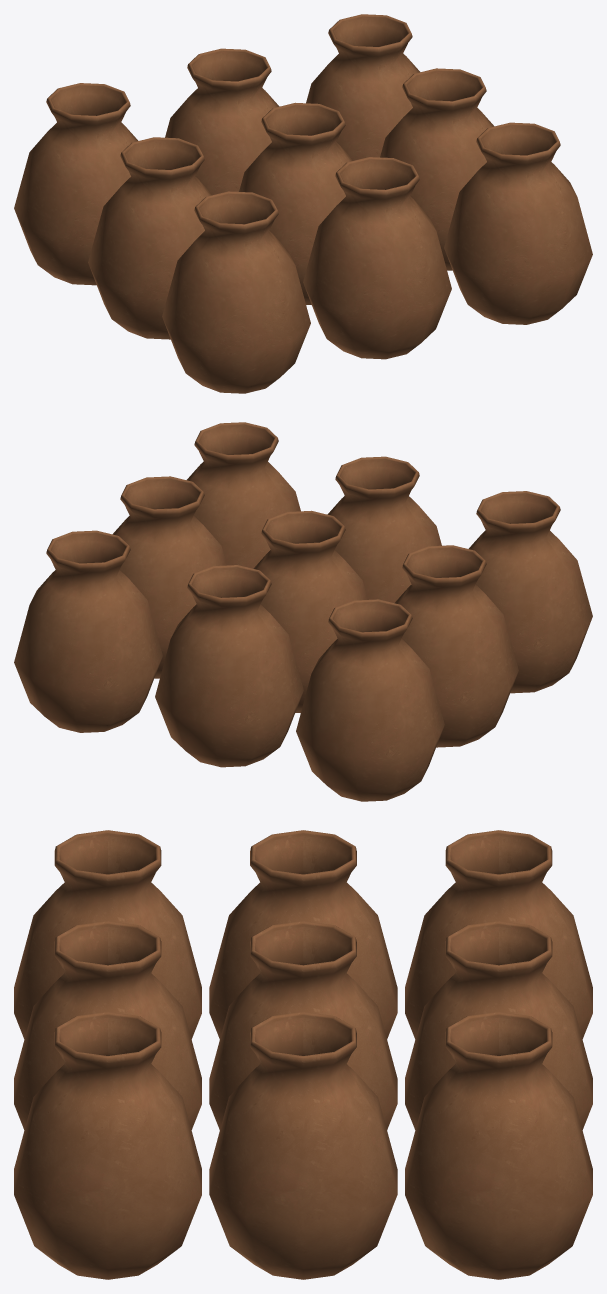
Rendered from PotteryJar2_Group.fbx.
3 renders of one model, top to bottom at view 1: azimuth 30°, elevation 25°; view 2: azimuth 150°, elevation 25°; view 3: azimuth 270°, elevation 25°, orthographic. The views are drawn at different scales.
Visible parts, largest first — view 1: PotteryJar2_8, PotteryJar2_6, PotteryJar2_7, PotteryJar2_5, PotteryJar2_, PotteryJar2_3, PotteryJar2_4, PotteryJar2_2, PotteryJar2_1; view 2: PotteryJar2_, PotteryJar2_2, PotteryJar2_1, PotteryJar2_5, PotteryJar2_8, PotteryJar2_3, PotteryJar2_4, PotteryJar2_6, PotteryJar2_7; view 3: PotteryJar2_3, PotteryJar2_6, PotteryJar2_2, PotteryJar2_4, PotteryJar2_5, PotteryJar2_8, PotteryJar2_7, PotteryJar2_1, PotteryJar2_.
Boxes of the visible parts, x1=… form: PotteryJar2_8: x1=162, y1=191, x2=310, y2=393; PotteryJar2_6: x1=444, y1=122, x2=592, y2=324; PotteryJar2_7: x1=303, y1=157, x2=451, y2=359; PotteryJar2_5: x1=88, y1=137, x2=212, y2=339; PotteryJar2_: x1=14, y1=83, x2=138, y2=285; PotteryJar2_3: x1=380, y1=68, x2=494, y2=270; PotteryJar2_4: x1=239, y1=102, x2=353, y2=304; PotteryJar2_2: x1=306, y1=14, x2=420, y2=160; PotteryJar2_1: x1=165, y1=48, x2=279, y2=194; PotteryJar2_: x1=296, y1=599, x2=444, y2=801; PotteryJar2_2: x1=14, y1=530, x2=162, y2=732; PotteryJar2_1: x1=155, y1=565, x2=303, y2=767; PotteryJar2_5: x1=394, y1=545, x2=518, y2=747; PotteryJar2_8: x1=468, y1=491, x2=592, y2=693; PotteryJar2_3: x1=112, y1=476, x2=226, y2=678; PotteryJar2_4: x1=253, y1=510, x2=367, y2=712; PotteryJar2_6: x1=186, y1=422, x2=300, y2=568; PotteryJar2_7: x1=327, y1=456, x2=441, y2=602; PotteryJar2_3: x1=209, y1=1011, x2=397, y2=1279; PotteryJar2_6: x1=14, y1=1011, x2=201, y2=1279; PotteryJar2_2: x1=405, y1=1011, x2=592, y2=1279; PotteryJar2_4: x1=209, y1=921, x2=397, y2=1129; PotteryJar2_5: x1=209, y1=830, x2=397, y2=1039; PotteryJar2_8: x1=14, y1=830, x2=201, y2=1039; PotteryJar2_7: x1=14, y1=921, x2=201, y2=1129; PotteryJar2_1: x1=405, y1=921, x2=592, y2=1129; PotteryJar2_: x1=405, y1=830, x2=592, y2=1039.
Bounding box in the file's own units: 50.89 × 20.14 × 46.96.
